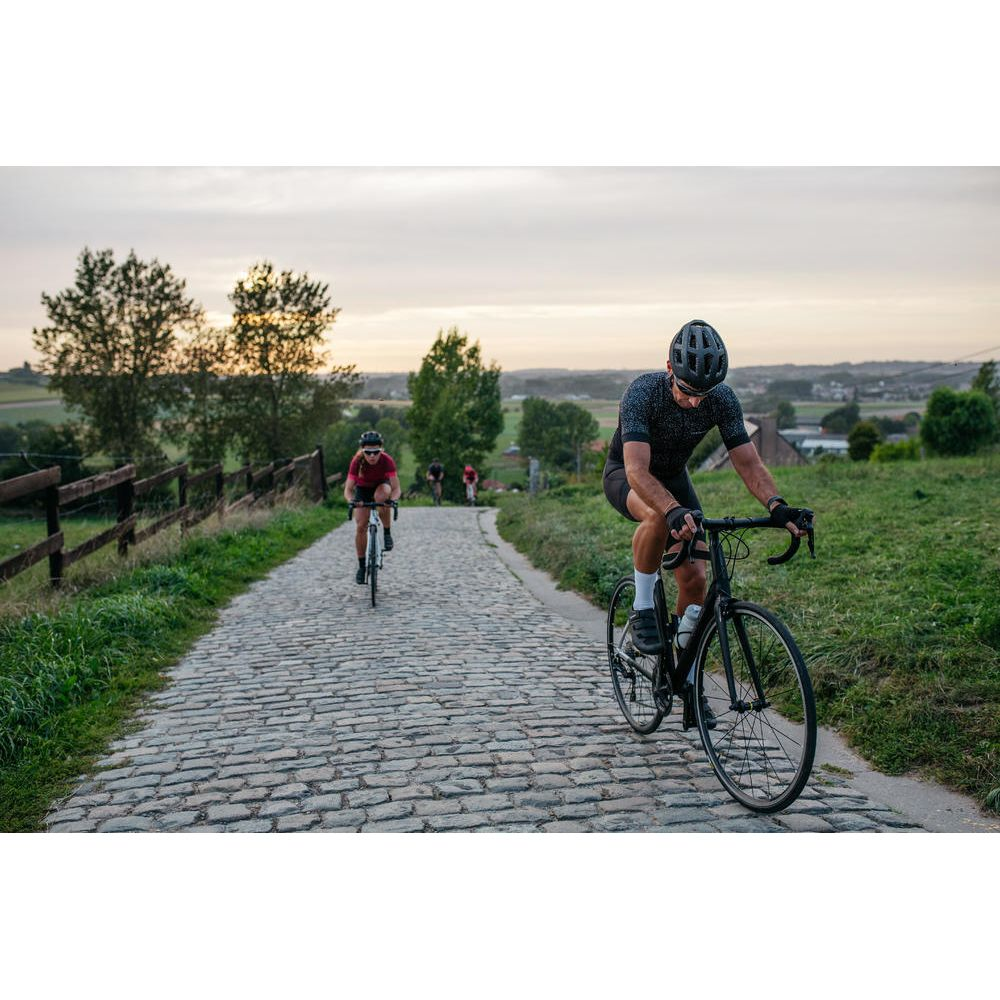RoadBike: (604, 530, 820, 794), (345, 498, 405, 610)
